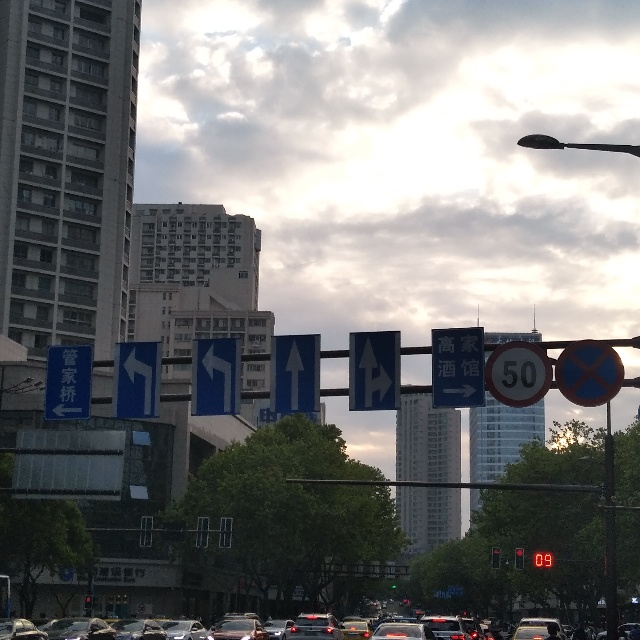left: (117, 342, 159, 418), (196, 339, 237, 414)
stop: (562, 342, 619, 403)
straight: (269, 334, 322, 413)
